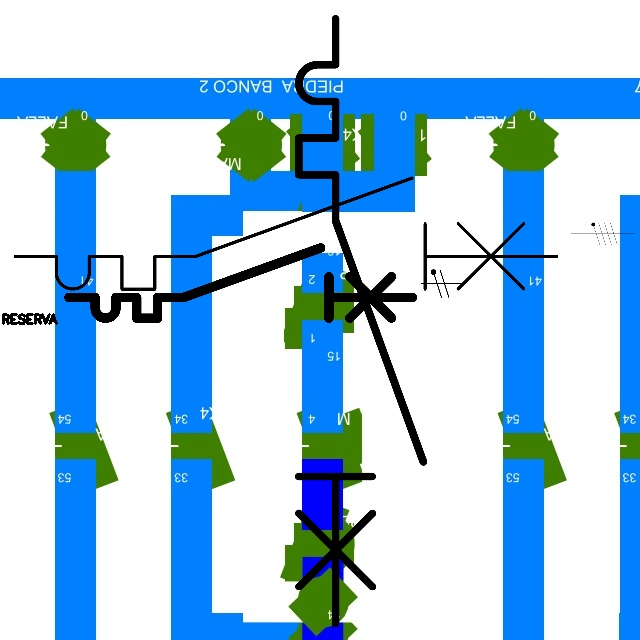interruptor_termomagnetico: (283, 3, 439, 639), (1, 164, 570, 303), (60, 239, 421, 327)
